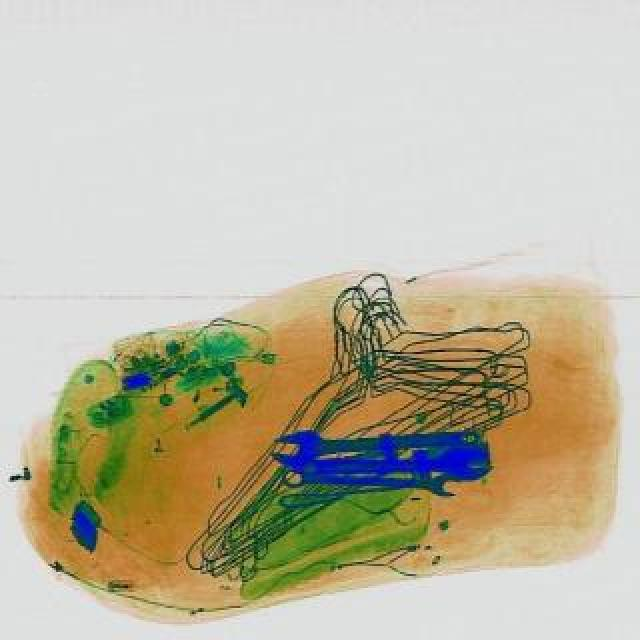scissors: (266, 414, 478, 470), (304, 444, 494, 484), (282, 462, 462, 498)
